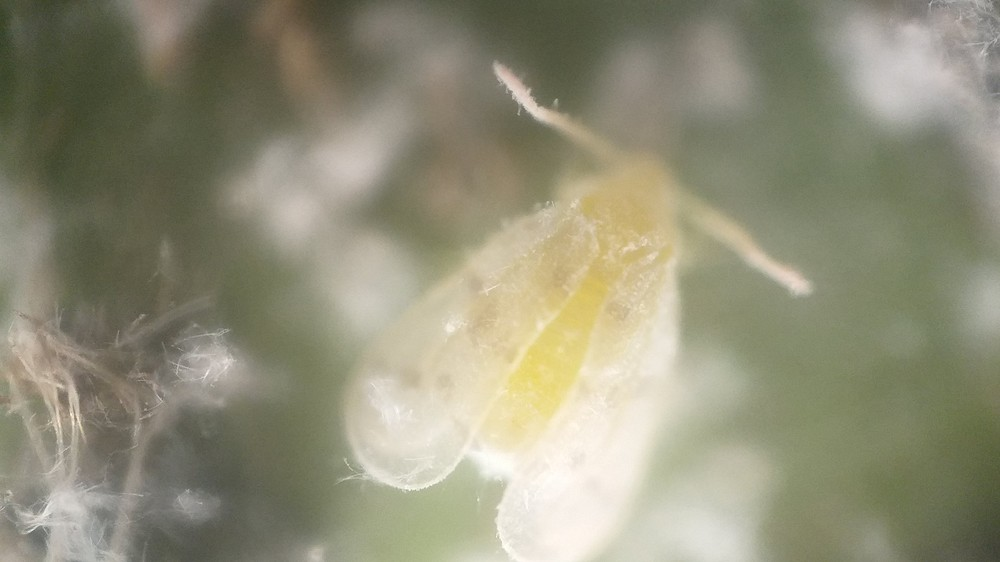Mosca Blanca: (341, 54, 830, 562)
